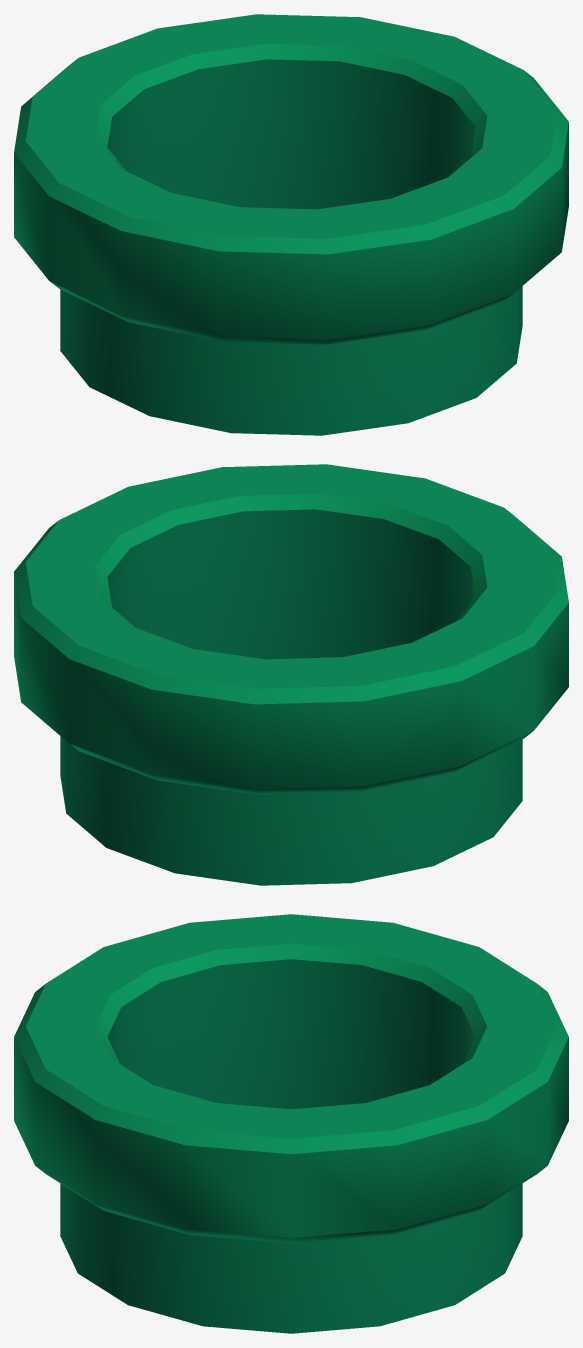
Rendered from pipe_end_green.glb.
3 renders of one model, top to bottom at view 1: azimuth 30°, elevation 25°; view 2: azimuth 150°, elevation 25°; view 3: azimuth 270°, elevation 25°, orthographic.
Parts seen in each view (by area): view 1: pipe_end_green; view 2: pipe_end_green; view 3: pipe_end_green.
Part boxes in pixels (<box>): pipe_end_green: <box>14,14,568,435</box>; pipe_end_green: <box>14,464,568,885</box>; pipe_end_green: <box>14,914,568,1333</box>.
Bounding box in the file's own units: 2.4 × 1 × 2.4.
1 material, 1 textured.
